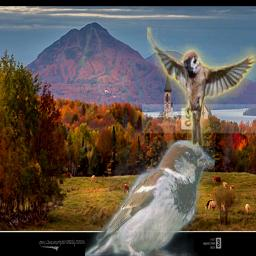Sparrow: (85, 140, 215, 256), (147, 27, 256, 146)
